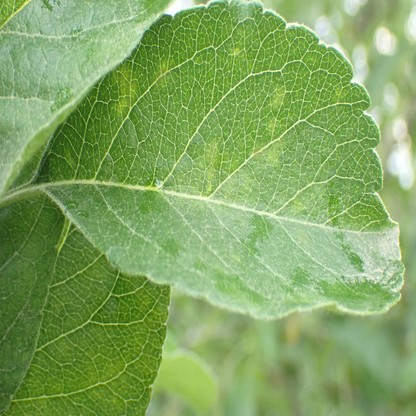powdery_mildew: (352, 221, 399, 277)
scab: (116, 67, 138, 113), (226, 168, 252, 191), (206, 142, 218, 190), (153, 61, 173, 88), (270, 84, 283, 111), (251, 144, 264, 166), (289, 197, 302, 214), (266, 118, 278, 136), (295, 232, 308, 245)
